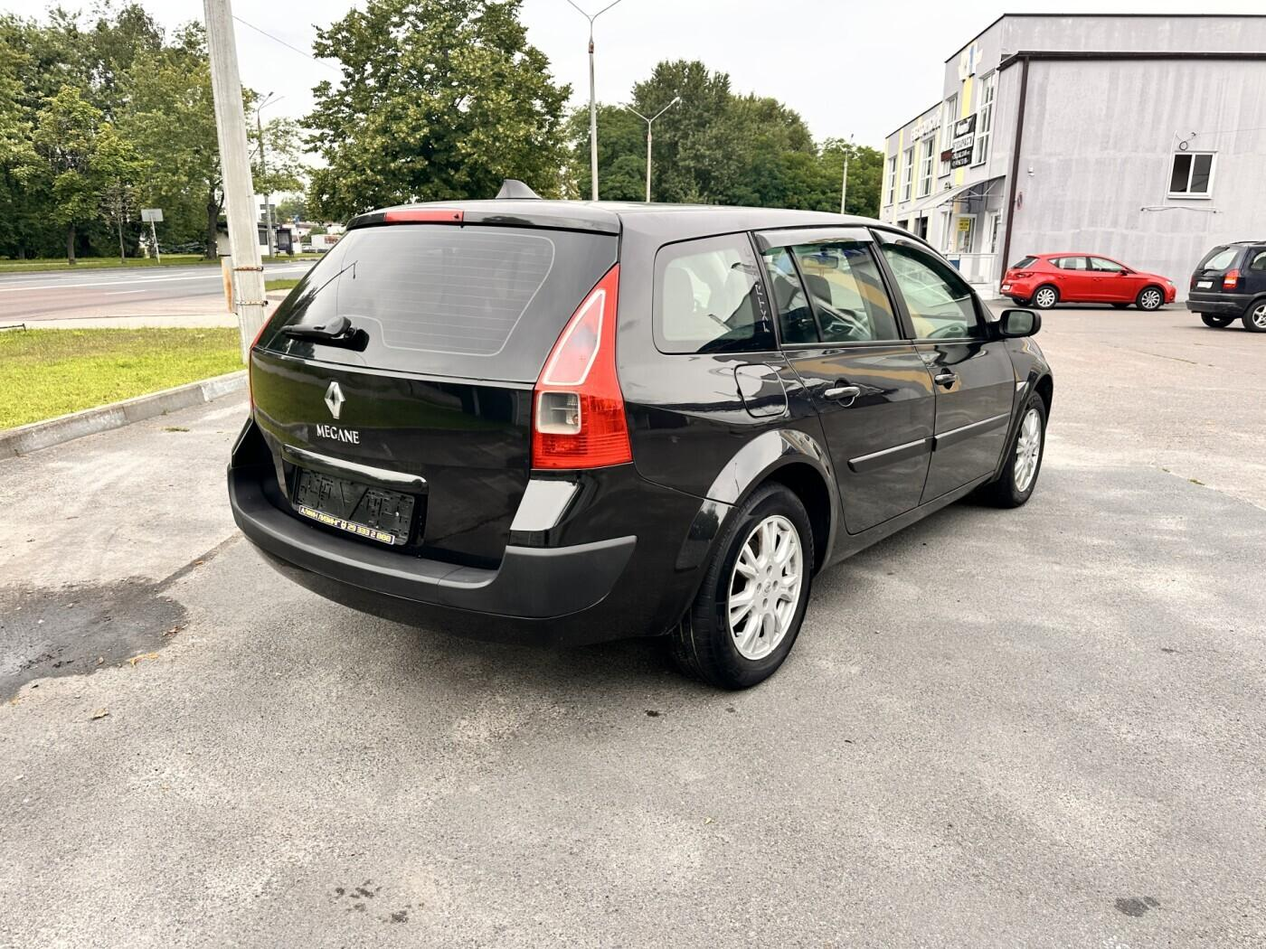Megane_2005-2009: (226, 204, 1064, 682)
